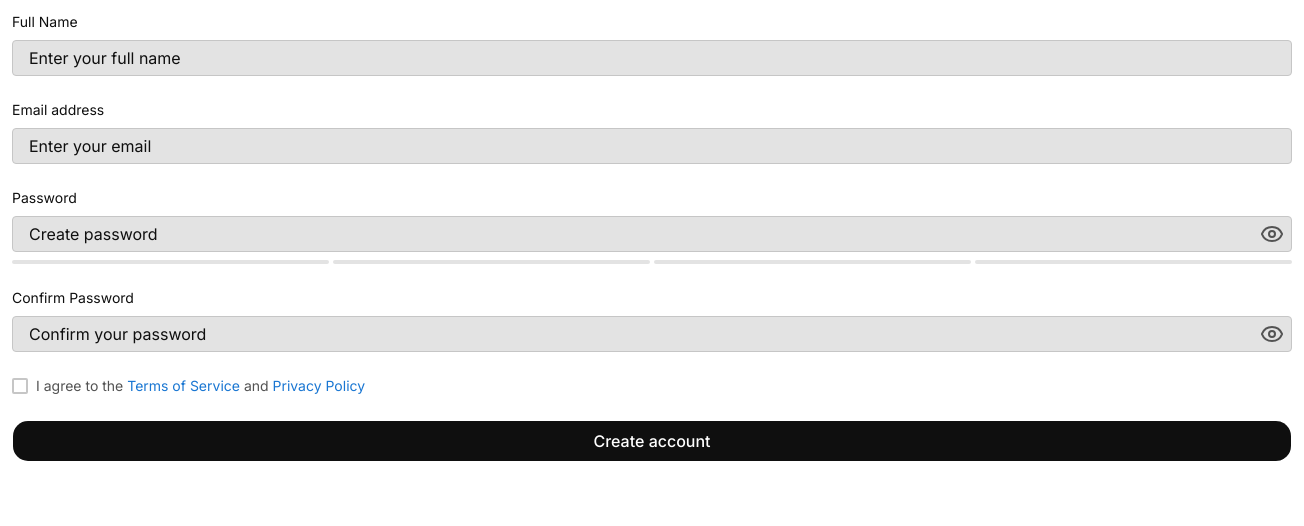
Test: <SignupForm /> wiring › maps a 409 to an inline email hint with a 'log in' CTA
In the field labelled "Full Name": (652,58) [12,40,1292,76], type "Alice Doe"
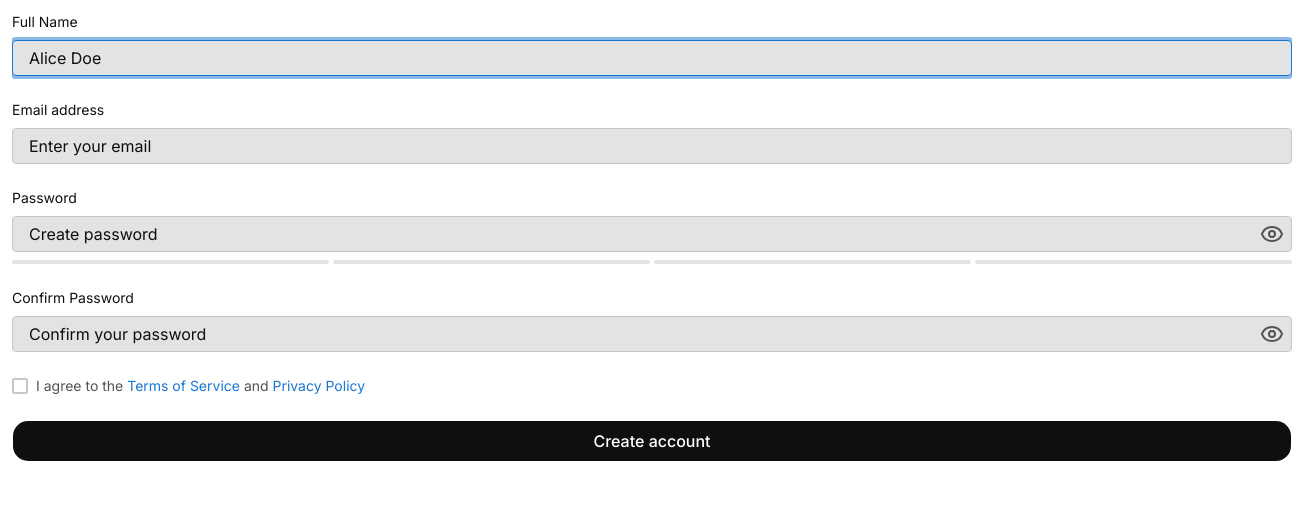
In the field labelled "Email address": (652,146) [12,128,1292,164], type "alice@example.com"
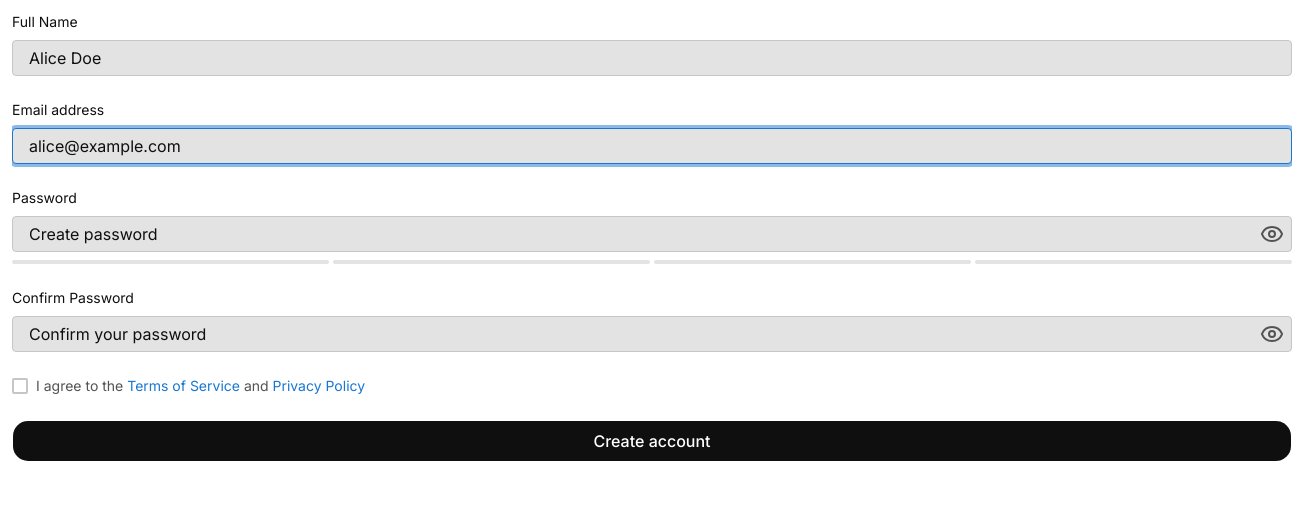
In the password field labelled "Password": (652,234) [12,216,1292,252], type "Password1"
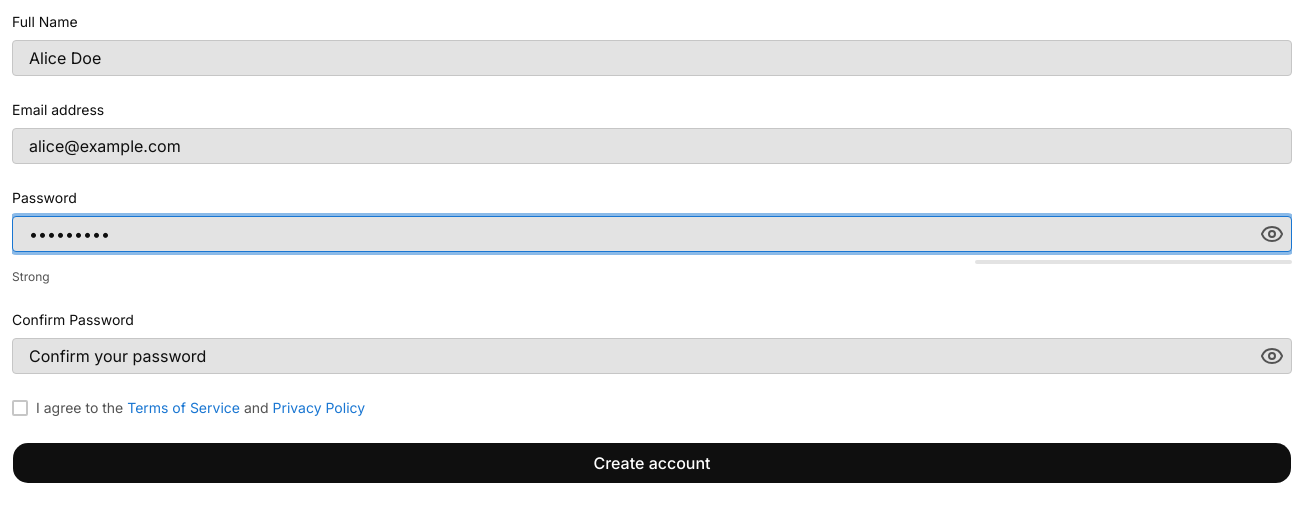
In the password field labelled "Confirm Password": (652,356) [12,338,1292,374], type "Password1"
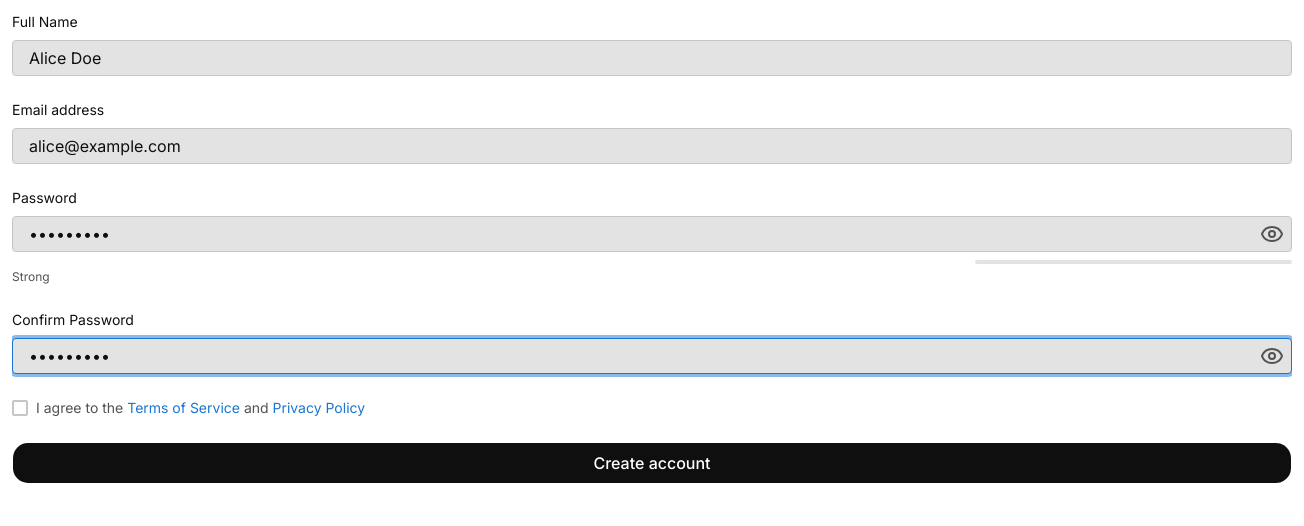
Click the checkbox: (20,408) [12,400,28,416]
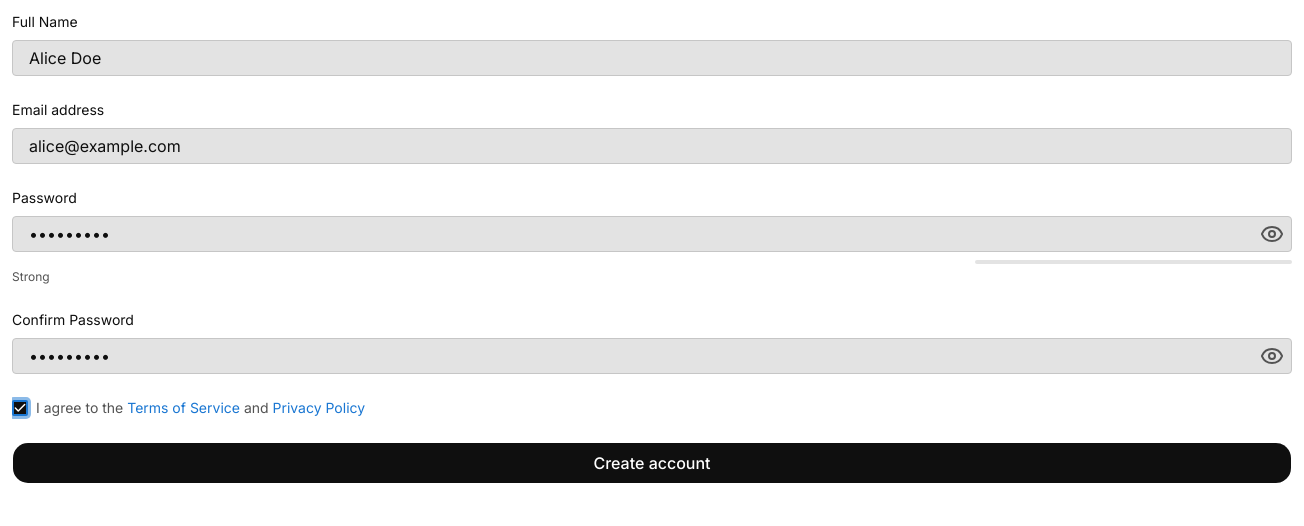
Click the button "Create account": (652,463) [12,442,1292,484]
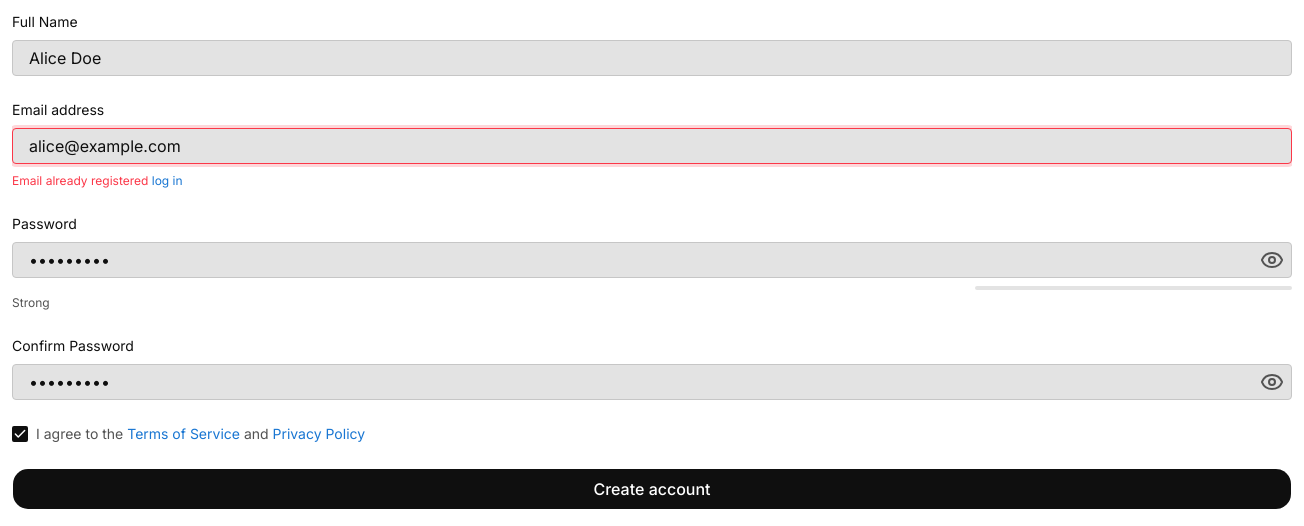
Expected: the text "Email already registered log in" is shown, [12,173,183,188]
